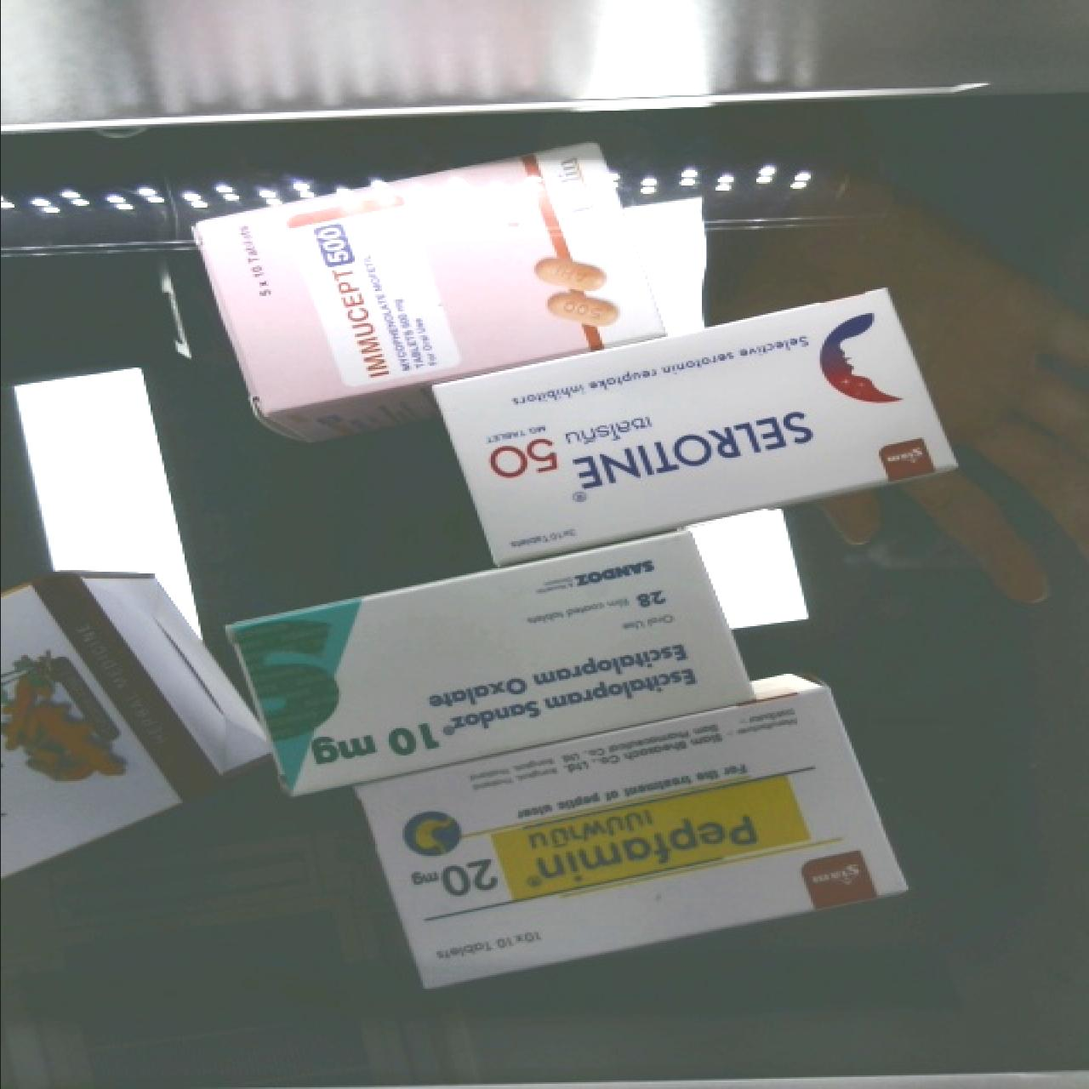medicine_label_obb: (291, 626, 725, 787), (390, 780, 803, 931), (469, 366, 839, 526), (282, 198, 413, 399)
